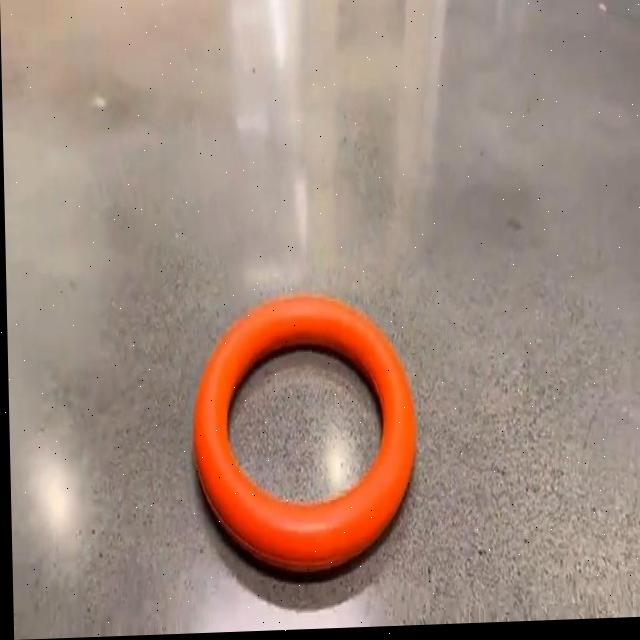note: (189, 297, 416, 577)
